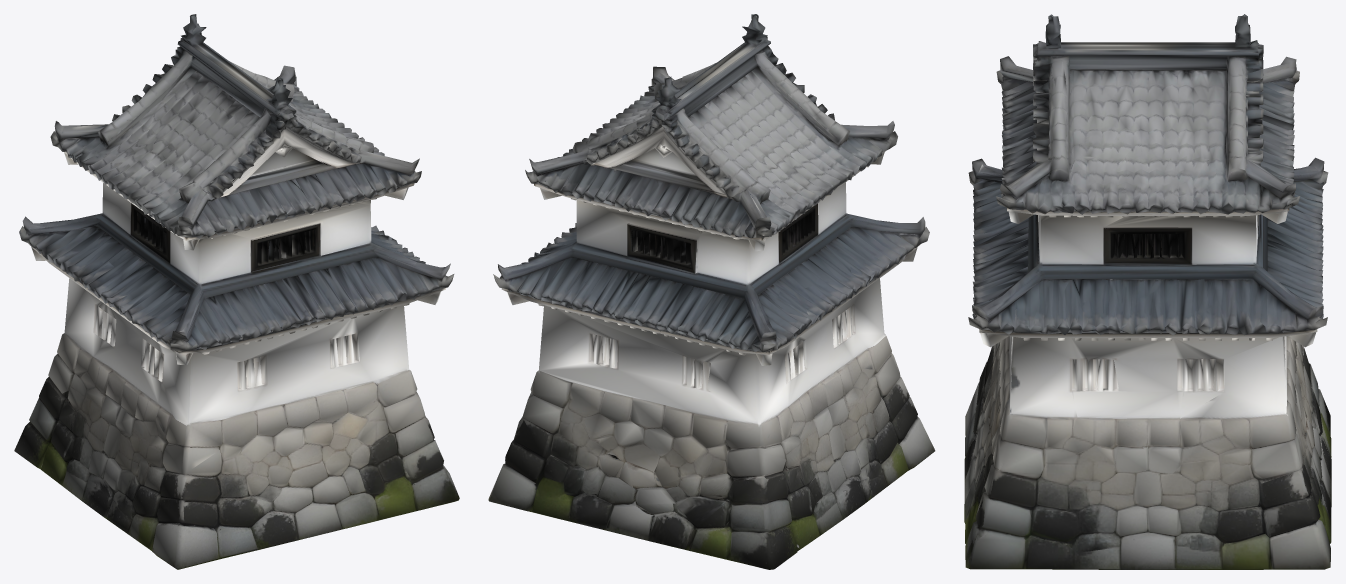
File: corner_turret.glb
The picture shows the model from 3 angles, left to right: view 1: azimuth 30°, elevation 25°; view 2: azimuth 150°, elevation 25°; view 3: azimuth 270°, elevation 25°; orthographic projection. The views are drawn at different scales.
Parts seen in each view (by area): view 1: node_0; view 2: node_0; view 3: node_0.
Boxes of the visible parts, <box> form: node_0: <box>14,14,459,569</box>; node_0: <box>488,14,935,569</box>; node_0: <box>964,14,1331,569</box>.
Bounding box in the file's own units: 7.48 × 10.72 × 7.46.
Materials: 1 (1 with a texture image).
